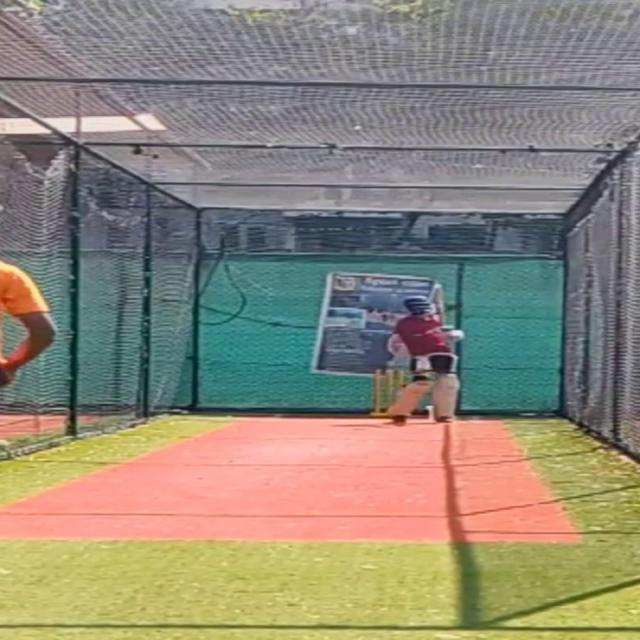stump: (368, 367, 406, 417)
